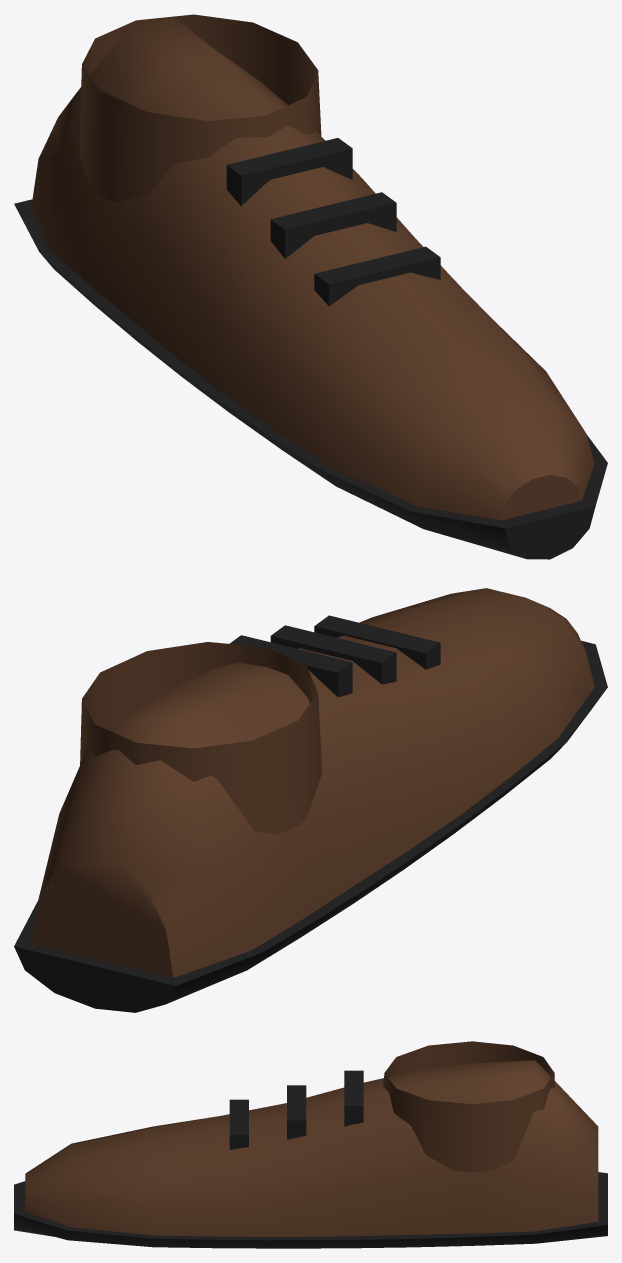
The model's file is npc_foot_shoe.glb.
3 renders of one model, top to bottom at view 1: azimuth 30°, elevation 25°; view 2: azimuth 150°, elevation 25°; view 3: azimuth 270°, elevation 25°, orthographic. The views are drawn at different scales.
Parts seen in each view (by area): view 1: npc_foot_shoe; view 2: npc_foot_shoe; view 3: npc_foot_shoe.
Part boxes in pixels (x1,y1,x2,y2): npc_foot_shoe: (14,14,607,559); npc_foot_shoe: (14,588,607,1012); npc_foot_shoe: (14,1041,607,1248).
Size of the model in its own units: 0.102 by 0.092 by 0.311.
